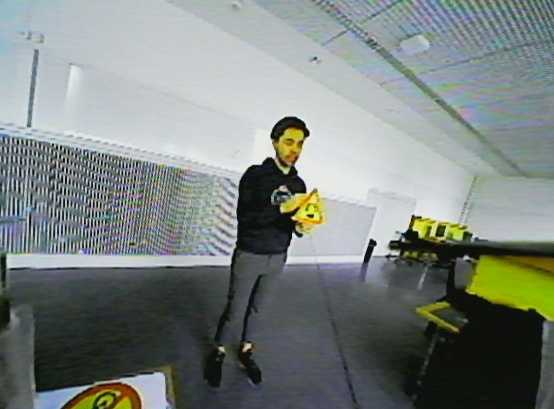roundabout_warning: (291, 185, 328, 229)
